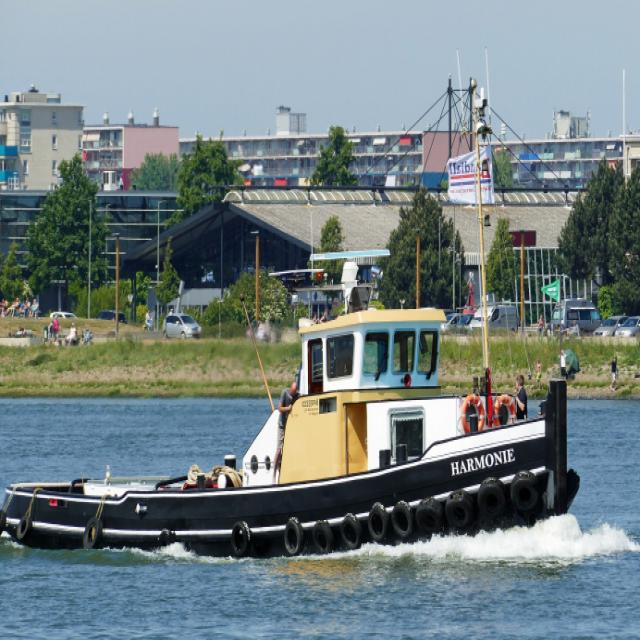tugboat: (1, 245, 589, 574)
